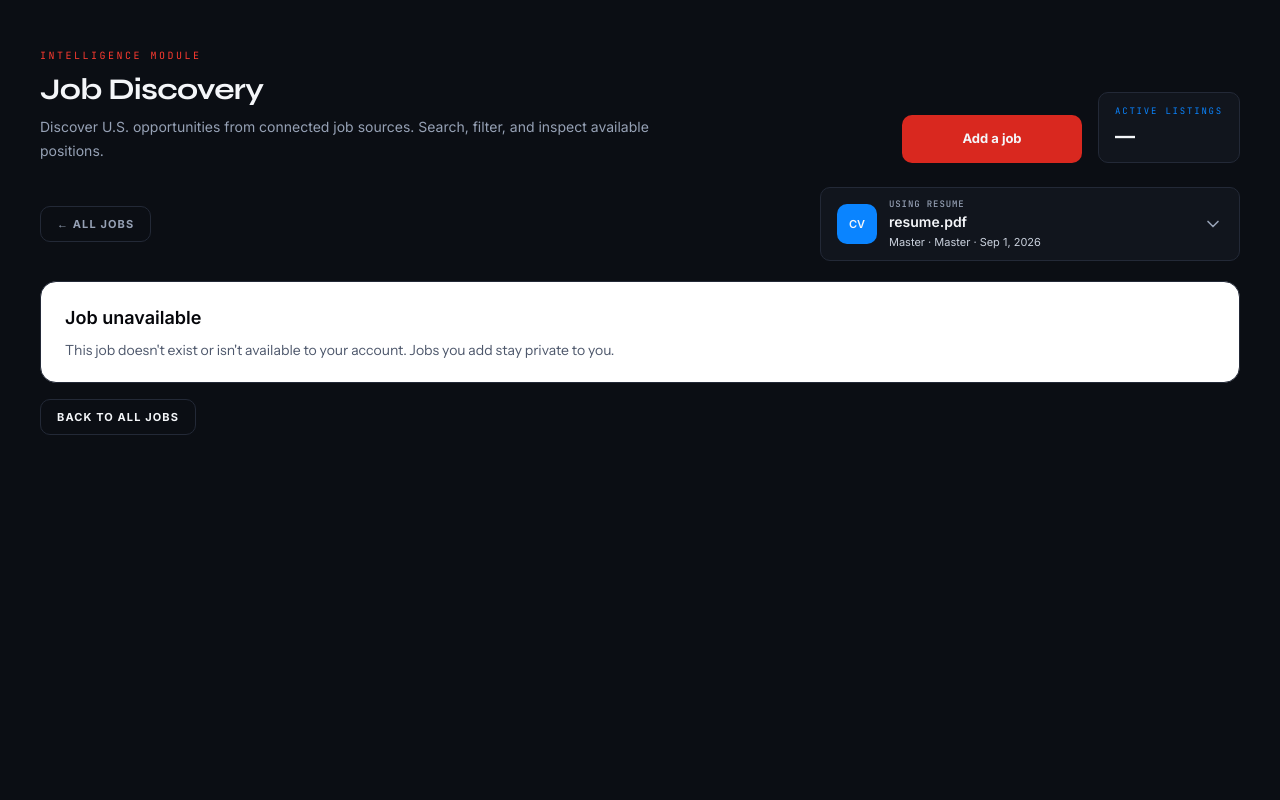
Jobs page — AJI-023 decision workflow › denies another user's private job without confirming it exists
expect the text "Job unavailable" is shown: met, box 65,304 -> 201,332
expect the text "doesn't exist or isn't available to your account" is shown: met, box 65,341 -> 614,359
Click the button "Back to all jobs": click(118, 417) 40,399 -> 196,435
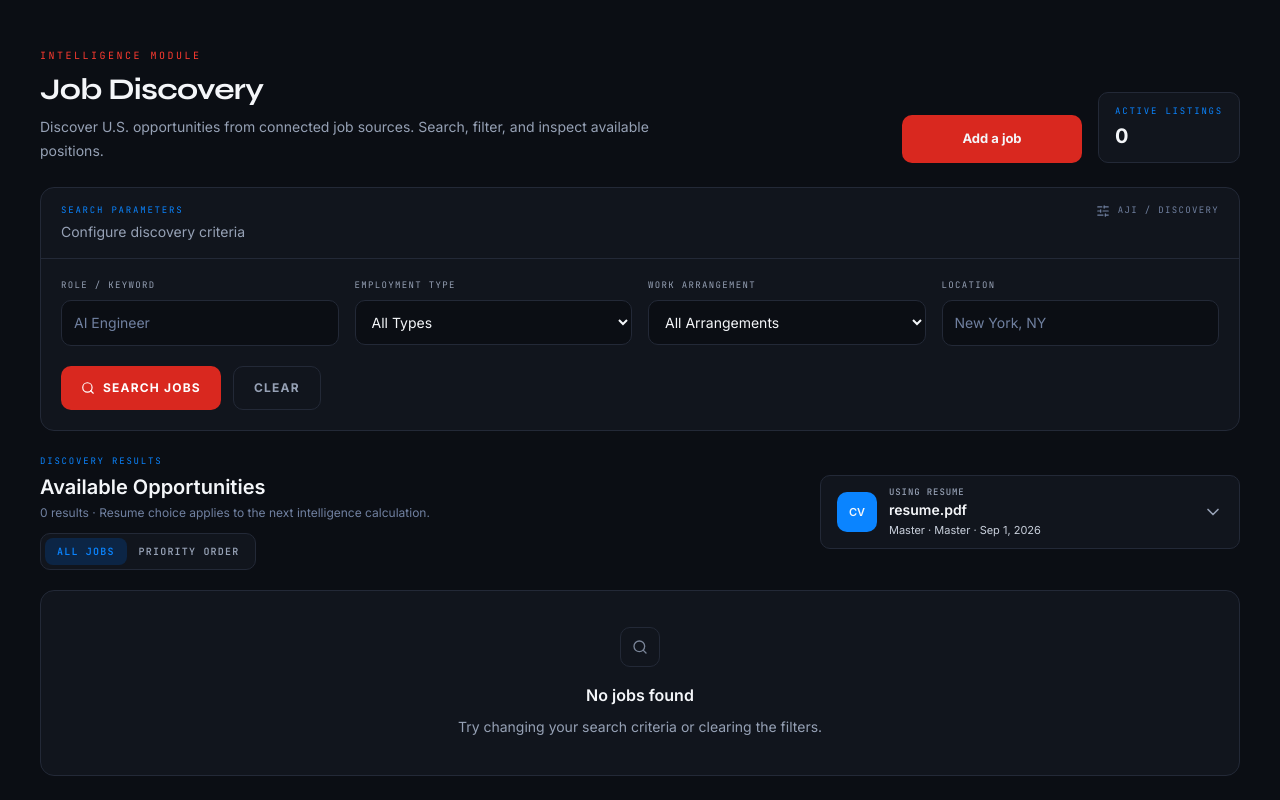
expect the text "Search Parameters" is shown: met, box 61,204 -> 183,216
